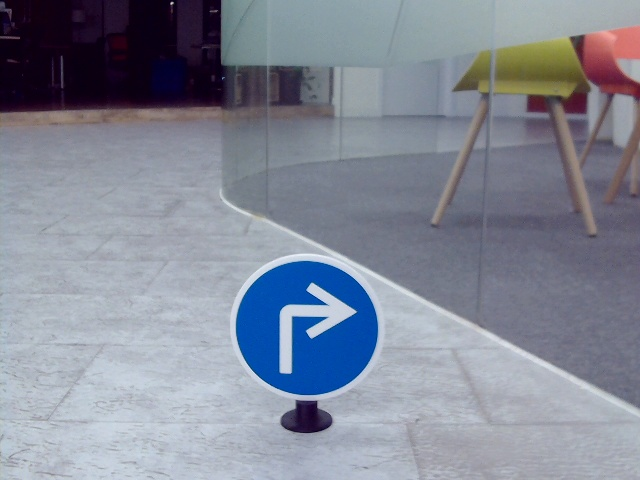turn_right: (269, 278, 352, 375)
